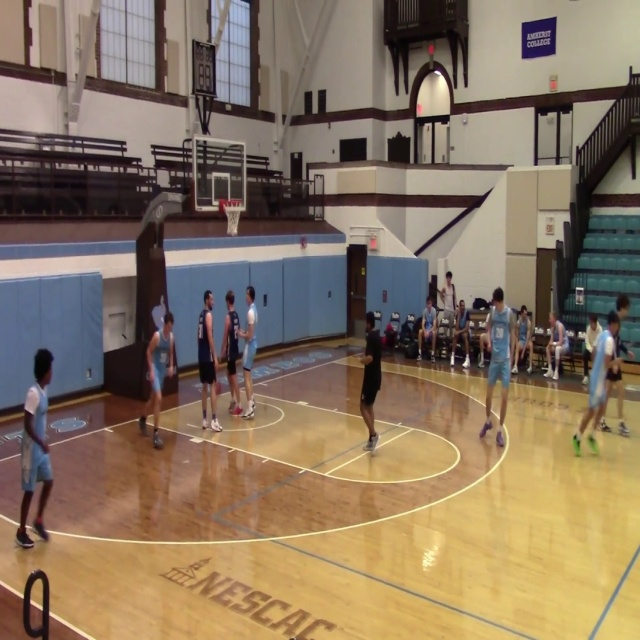Basketball: (358, 355, 372, 365)
